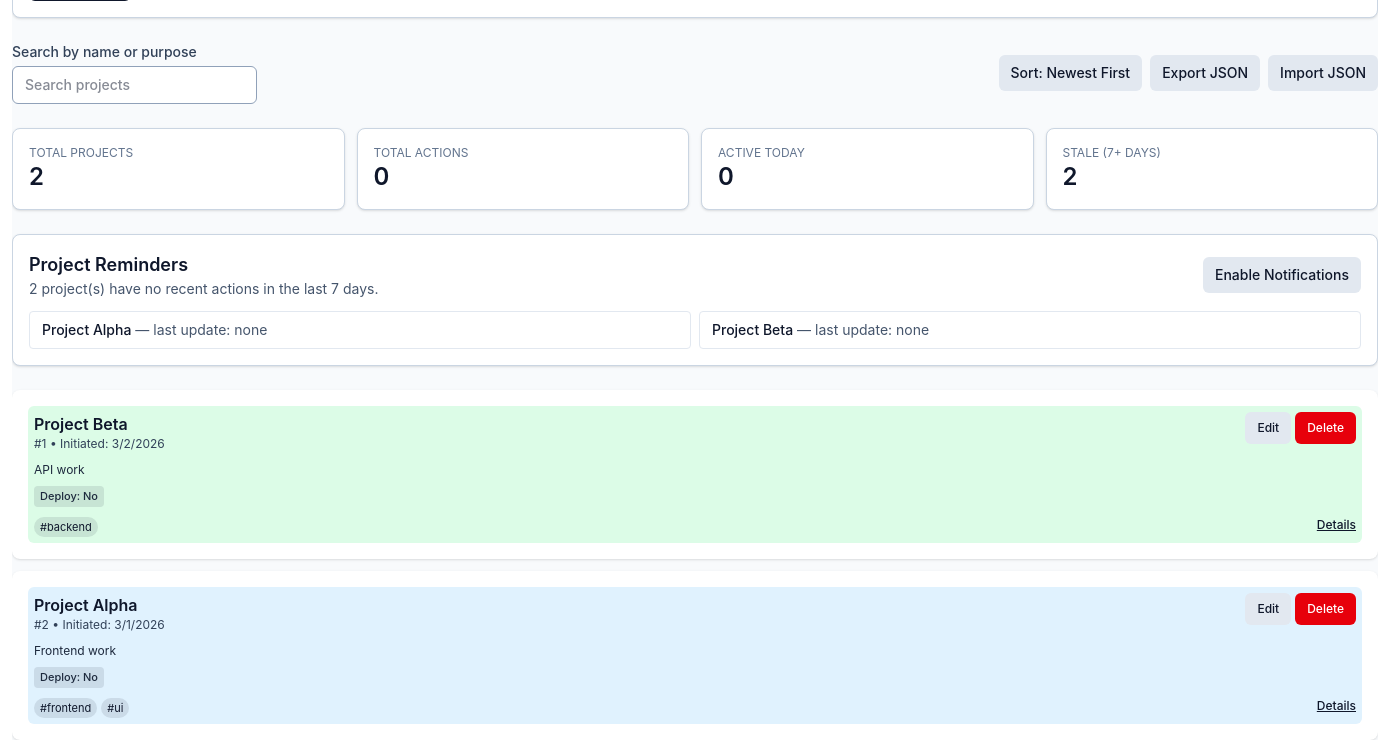
Test: DashboardPage › filters projects when clicking a tag chip
(page scrolled)
expect the heading "Project Alpha" is shown: met, box [34,595,138,615]
expect the heading "Project Beta" is shown: met, box [34,414,128,434]
Click the button "#frontend".
click(66, 708)  # box [34,698,97,718]
(page scrolled)
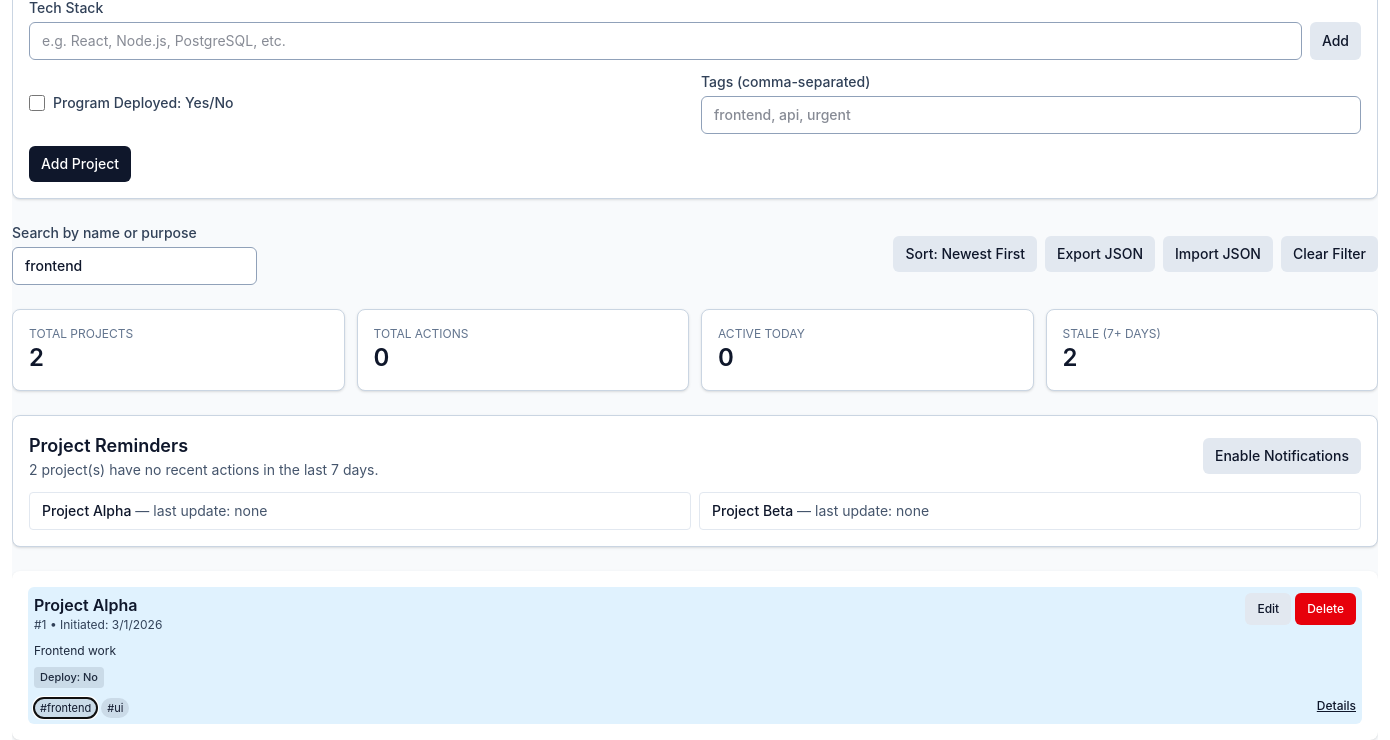
expect the heading "Project Alpha" is shown: met, box [34,595,138,615]
expect the field labelled "Search by name or purpose" holds "frontend": met, box [12,247,257,285]
